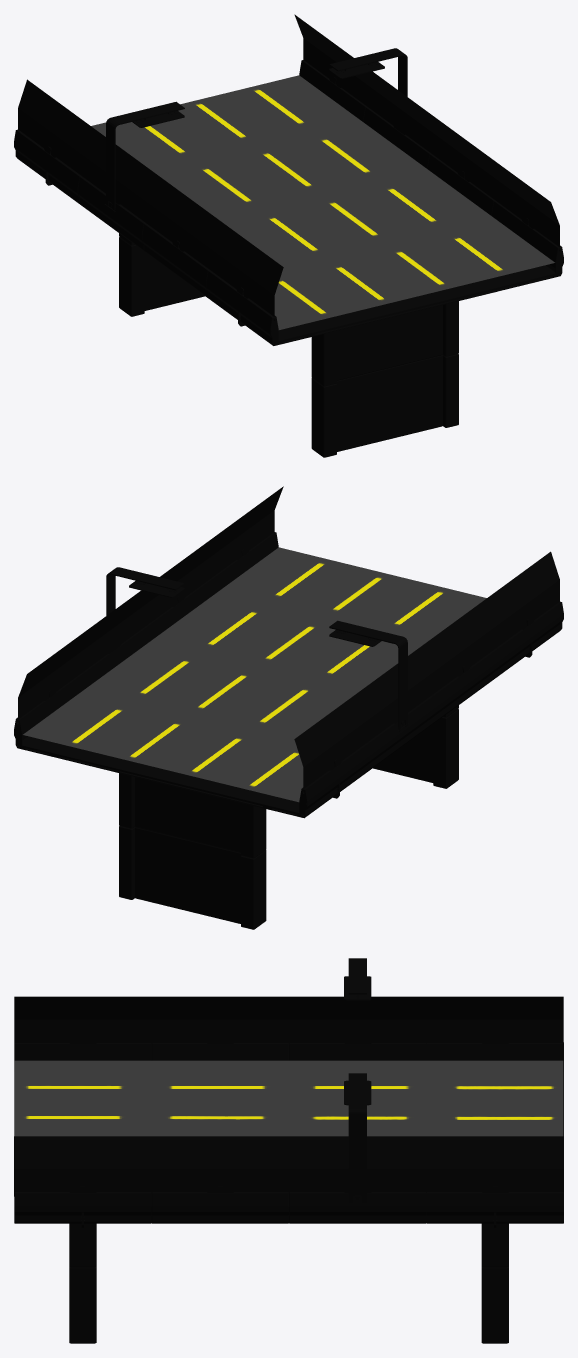
Rendered from Road.glb.
3 views of the same model, one above another, from view 1: azimuth 30°, elevation 25°; view 2: azimuth 150°, elevation 25°; view 3: azimuth 270°, elevation 25° (orthographic). The views are drawn at different scales.
Visible parts, largest first — view 1: G1_low.017; view 2: G1_low.017; view 3: G1_low.017.
Part boxes in pixels (x1,y1,x2,y2): G1_low.017: (14,14,563,457); G1_low.017: (14,486,563,929); G1_low.017: (14,958,563,1343).
Size of the model in its own units: 36.68 by 30.65 by 55.5.
4 materials, 1 textured.
